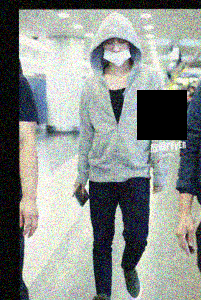mask_weared_incorrect: (101, 38, 132, 66)
